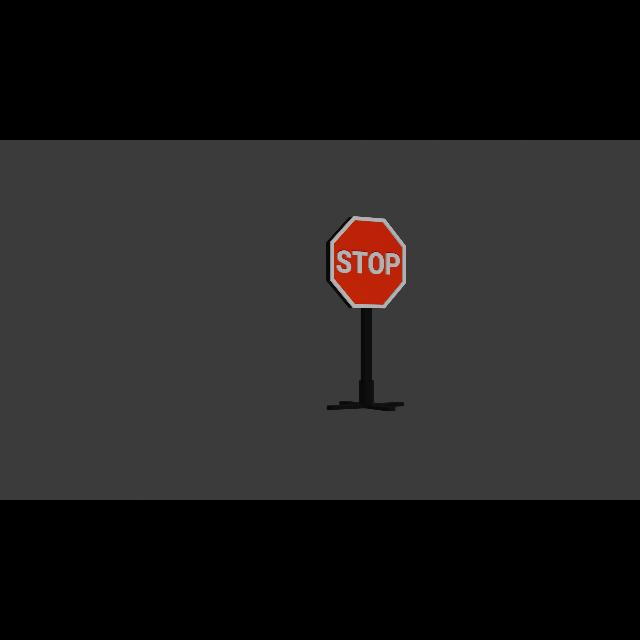sign_stop: (327, 216, 408, 310)
